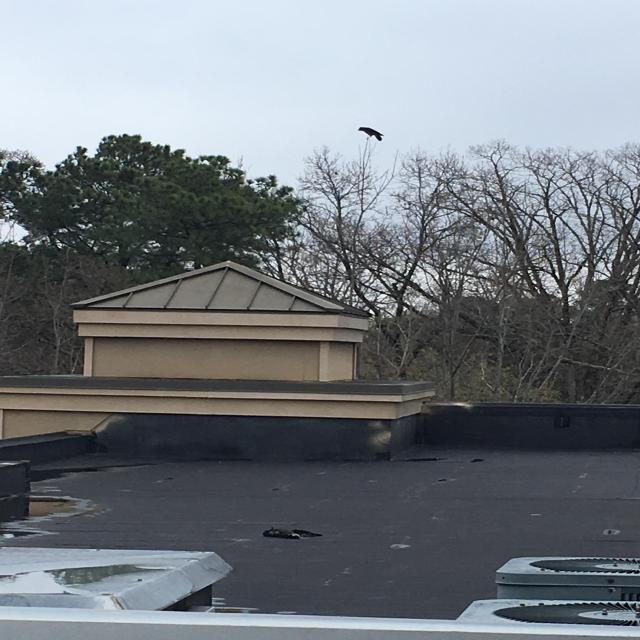bird: (358, 126, 384, 142)
